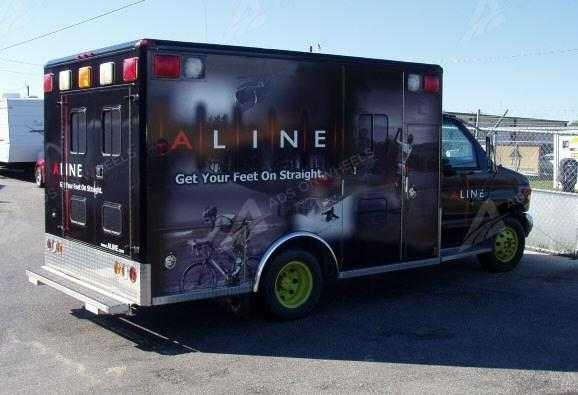car: (25, 37, 533, 321)
